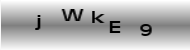9: (138, 23, 153, 37)
E: (108, 20, 122, 33)
W: (60, 6, 84, 22)
j: (33, 14, 44, 30)
k: (90, 10, 105, 25)
